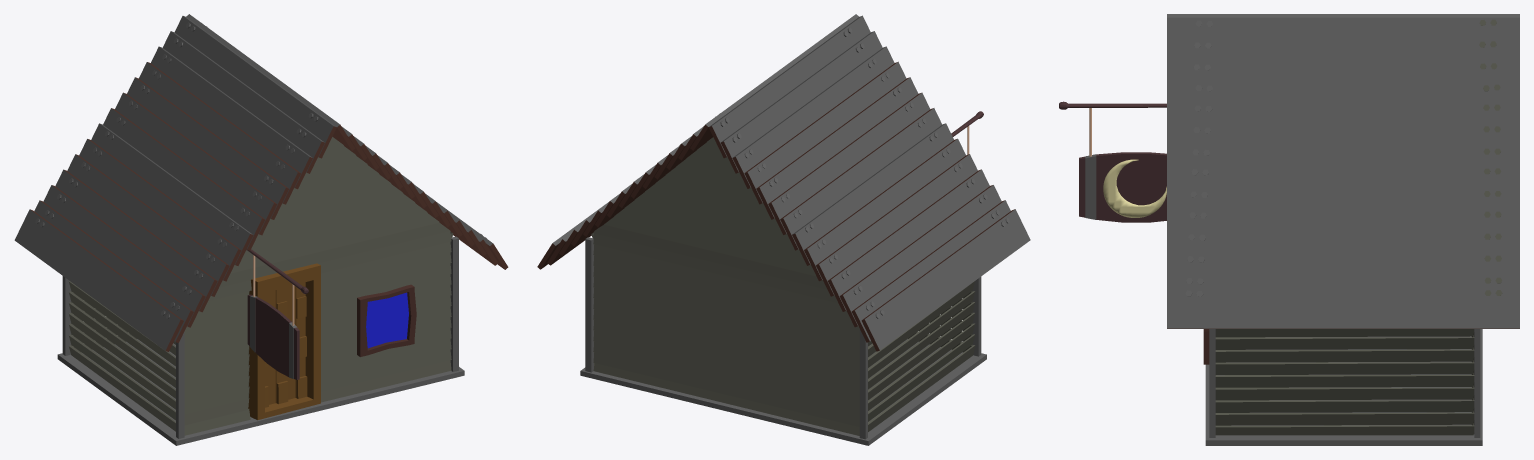
File: CasaLua.fbx
3 renders of one model, left to right at view 1: azimuth 30°, elevation 25°; view 2: azimuth 150°, elevation 25°; view 3: azimuth 270°, elevation 25°, orthographic. The views are drawn at different scales.
Parts seen in each view (by area): view 1: CasaLua, PortaLua; view 2: CasaLua; view 3: CasaLua.
Boxes of the visible parts, x1,y1,x2,y2 form: CasaLua: (14,14,508,445); PortaLua: (248,263,320,420); CasaLua: (537,14,1030,445); CasaLua: (1059,14,1519,445).
Size of the model in its own units: 571 by 473 by 568.
